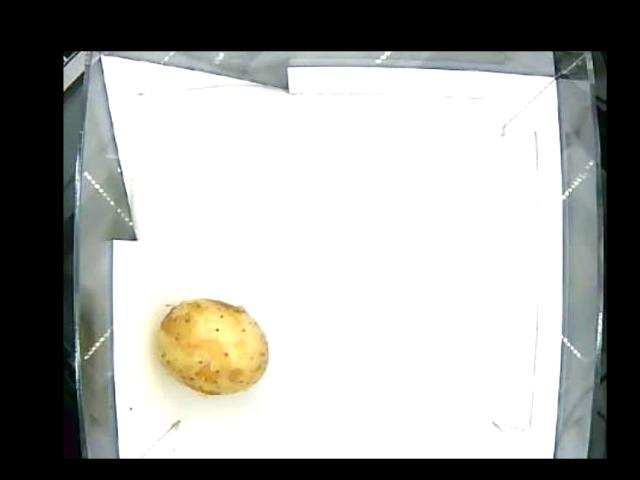Potato: (158, 296, 267, 392)
